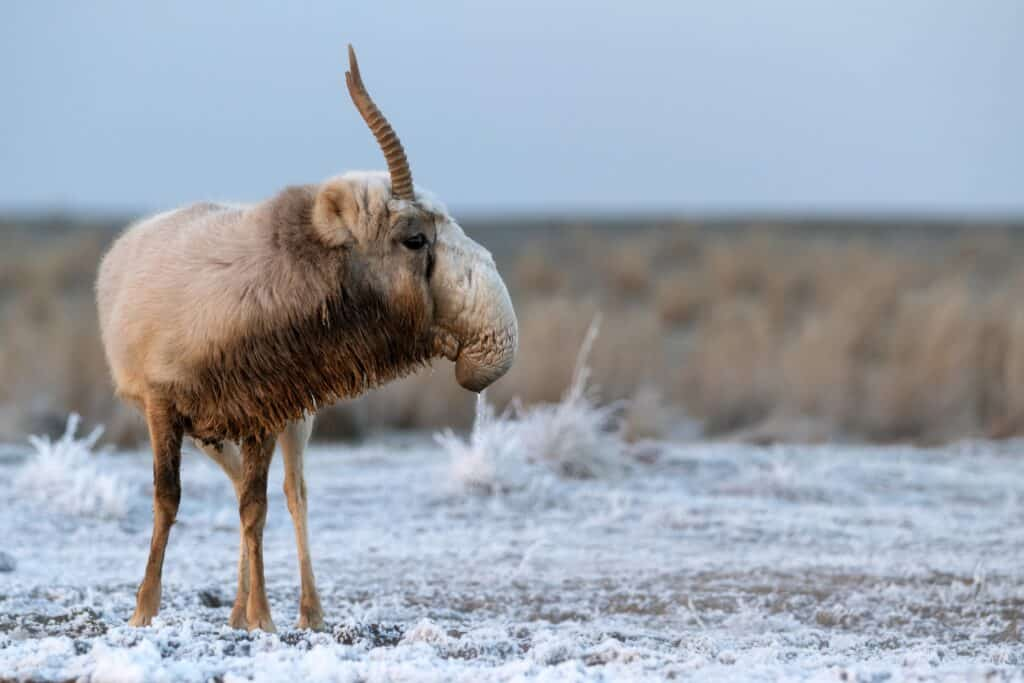saiga: (93, 45, 525, 638)
